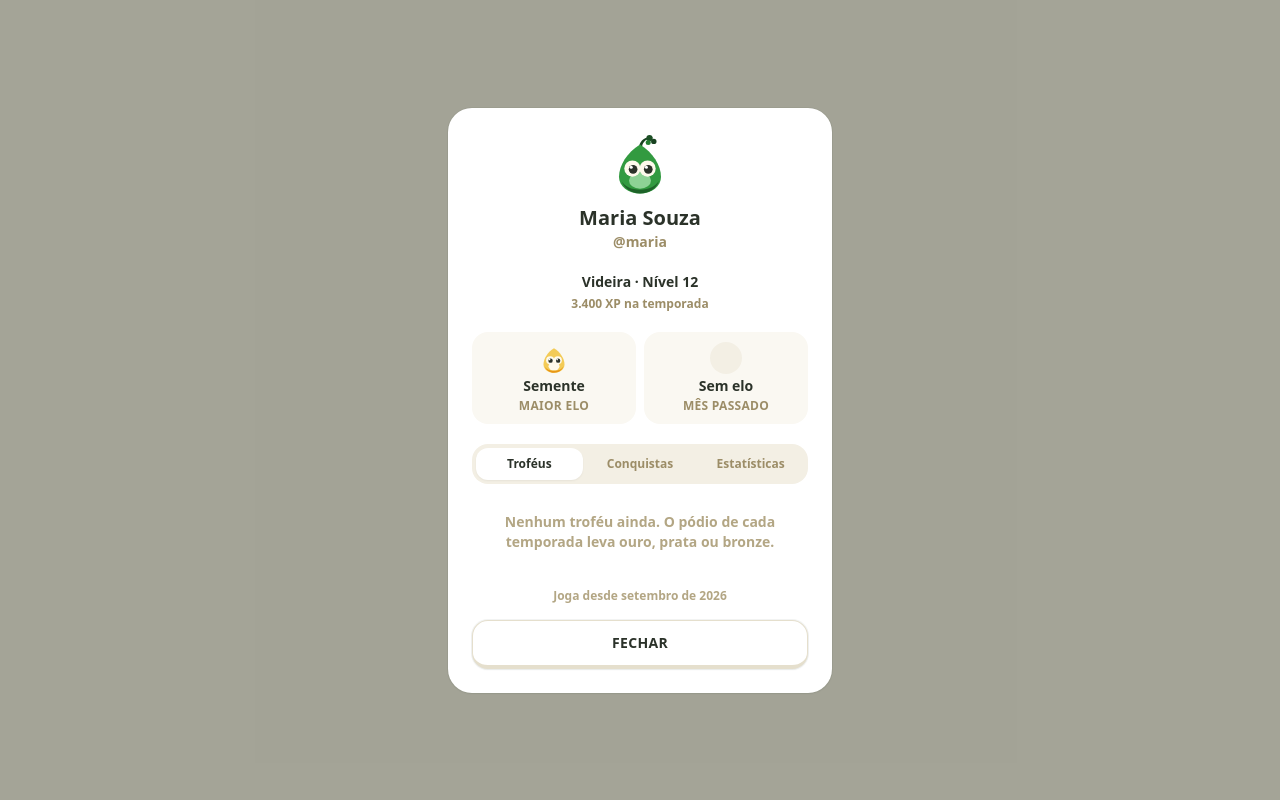
Test: PlayerProfileModal › handles a brand-new player gracefully
Check: the text "Nenhum troféu ainda" is shown, box [505,512,775,550]
Step 1. Click the tab "Conquistas" → (640, 464), box [587,448,693,480]
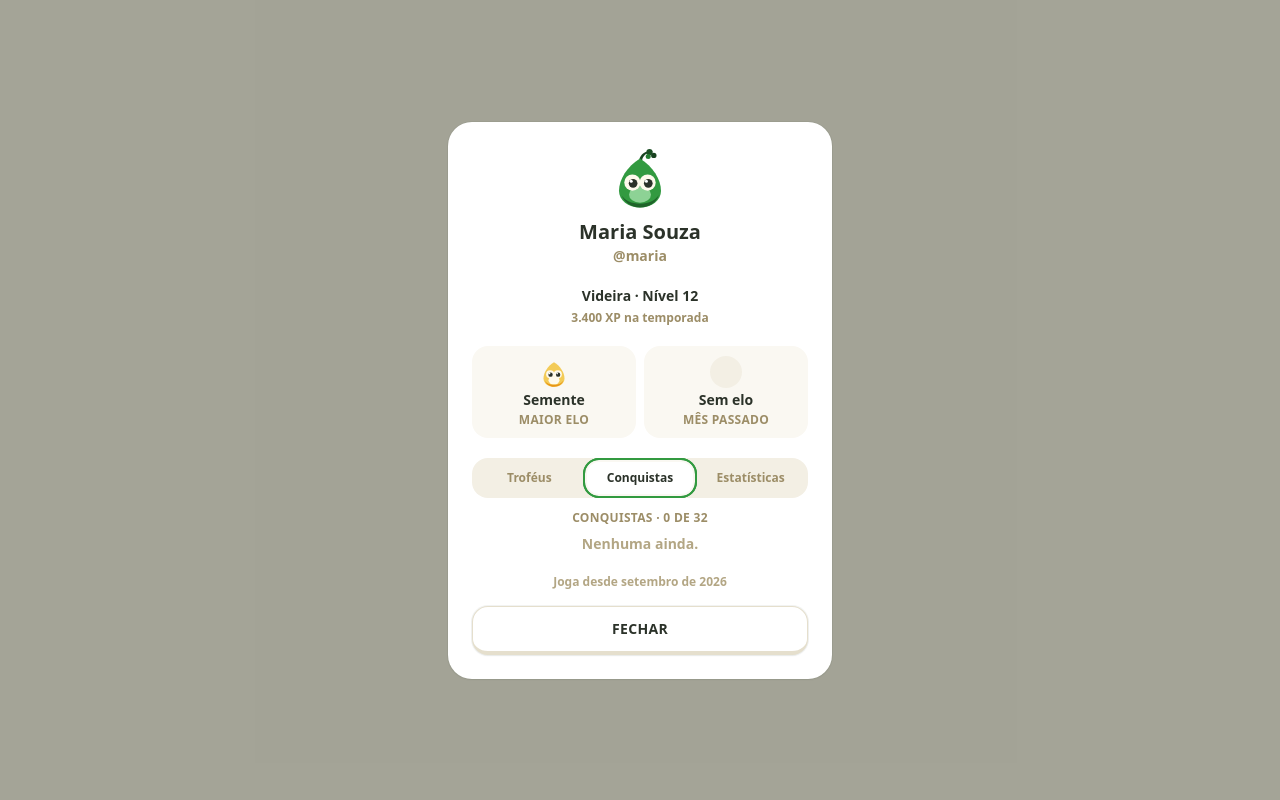
Check: the text "Nenhuma ainda." is shown, box [582,534,698,552]
Step 2. Click the tab "Estatísticas" → (751, 478), box [697,462,804,494]
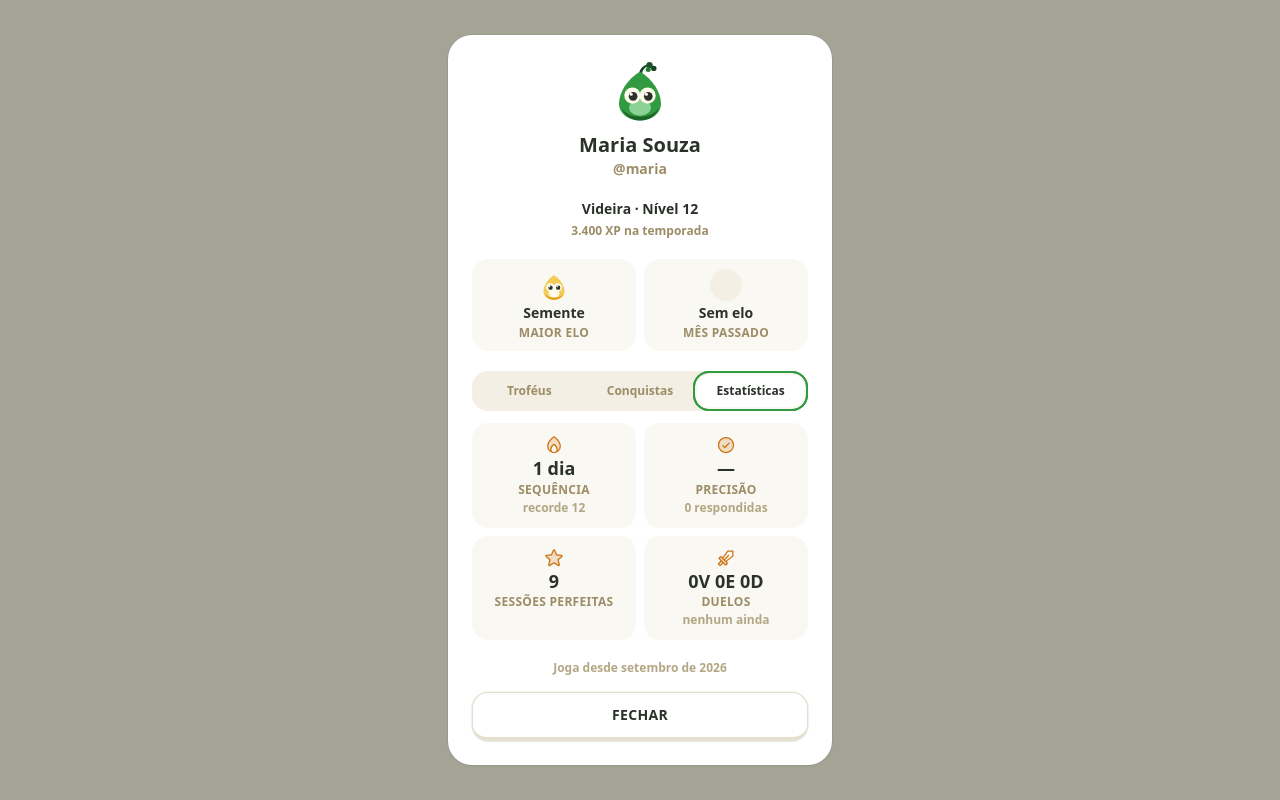
Check: the text "—" is shown, box [717,457,735,480]
Check: the text "1 dia" is shown, box [533,457,575,480]
Check: the text "nenhum ainda" is shown, box [682,612,770,628]
